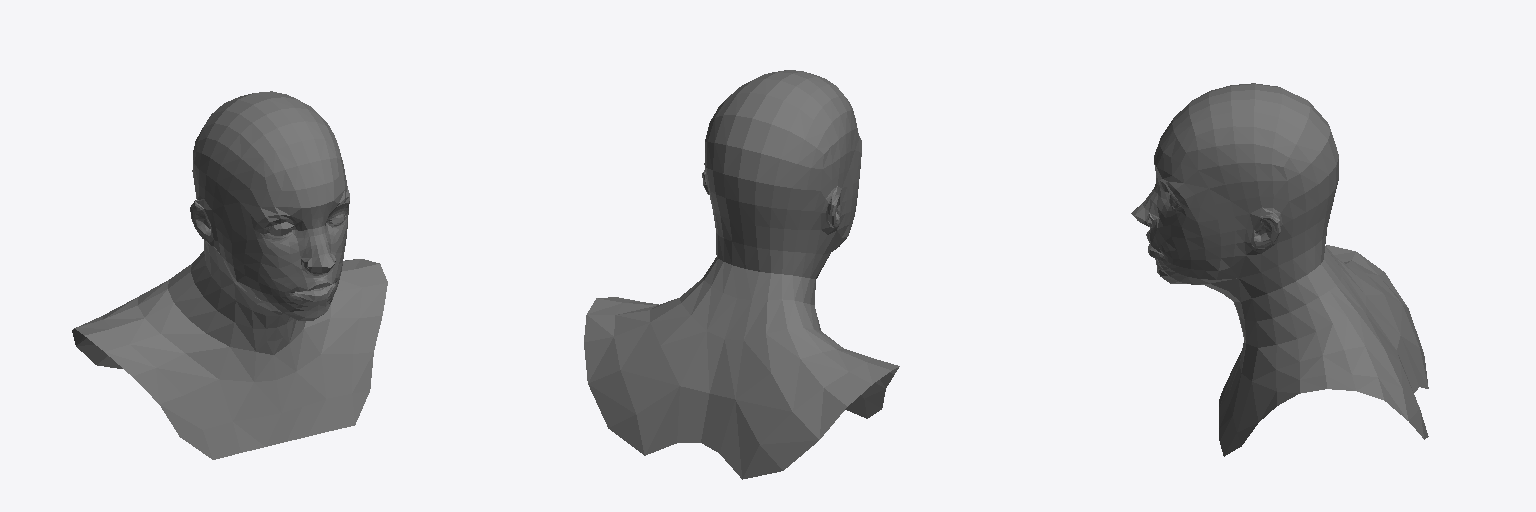
Rendered from LEyeClose.obj.
3 renders of one model, left to right at view 1: azimuth 30°, elevation 25°; view 2: azimuth 150°, elevation 25°; view 3: azimuth 270°, elevation 25°, orthographic.
Parts seen in each view (by area): view 1: LeyeClose Blendshapes; view 2: LeyeClose Blendshapes; view 3: LeyeClose Blendshapes.
Boxes of the visible parts, x1=… form: LeyeClose Blendshapes: x1=72, y1=91, x2=387, y2=459; LeyeClose Blendshapes: x1=584, y1=70, x2=899, y2=479; LeyeClose Blendshapes: x1=1131, y1=83, x2=1428, y2=456.
Bounding box in the file's own units: 449 × 482 × 391.